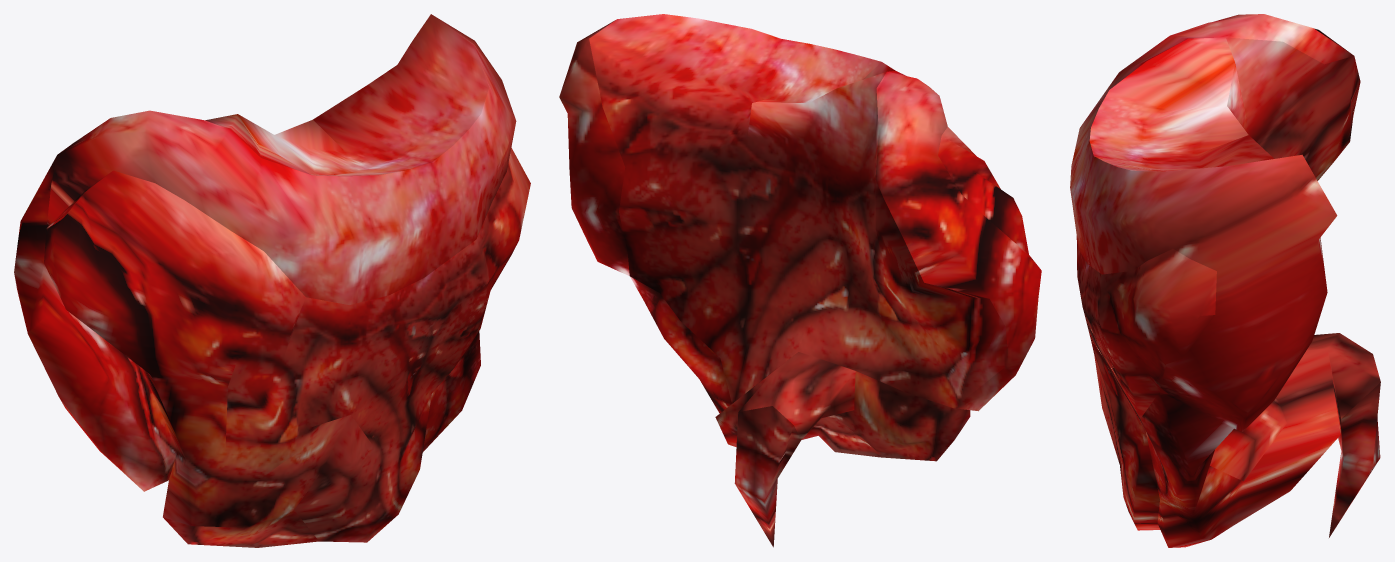
The model's file is gib_intestines_full.fbx.
3 renders of one model, left to right at view 1: azimuth 30°, elevation 25°; view 2: azimuth 150°, elevation 25°; view 3: azimuth 270°, elevation 25°, orthographic. The views are drawn at different scales.
Parts seen in each view (by area): view 1: intestines_complete; view 2: intestines_complete; view 3: intestines_complete.
Boxes of the visible parts, x1,y1,x2,y2 form: intestines_complete: [14, 14, 530, 547]; intestines_complete: [559, 14, 1041, 547]; intestines_complete: [1070, 14, 1380, 547].
Bounding box in the file's own units: 0.259 × 0.2474 × 0.143.
